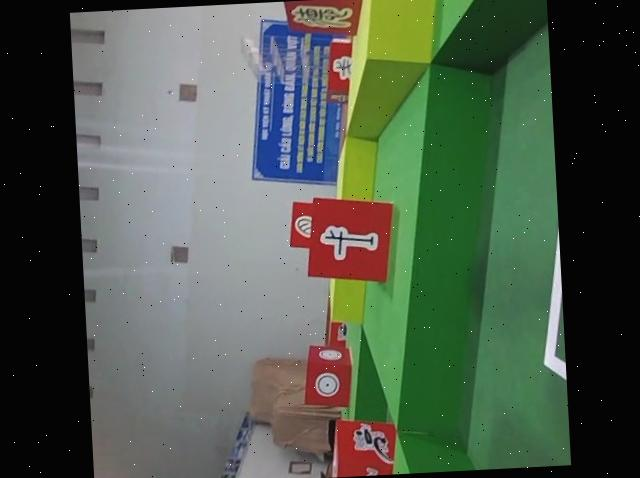R1: (326, 415, 420, 478)
R2 Fake: (281, 0, 377, 39)
R2 Real: (304, 194, 400, 288), (300, 344, 352, 409)
